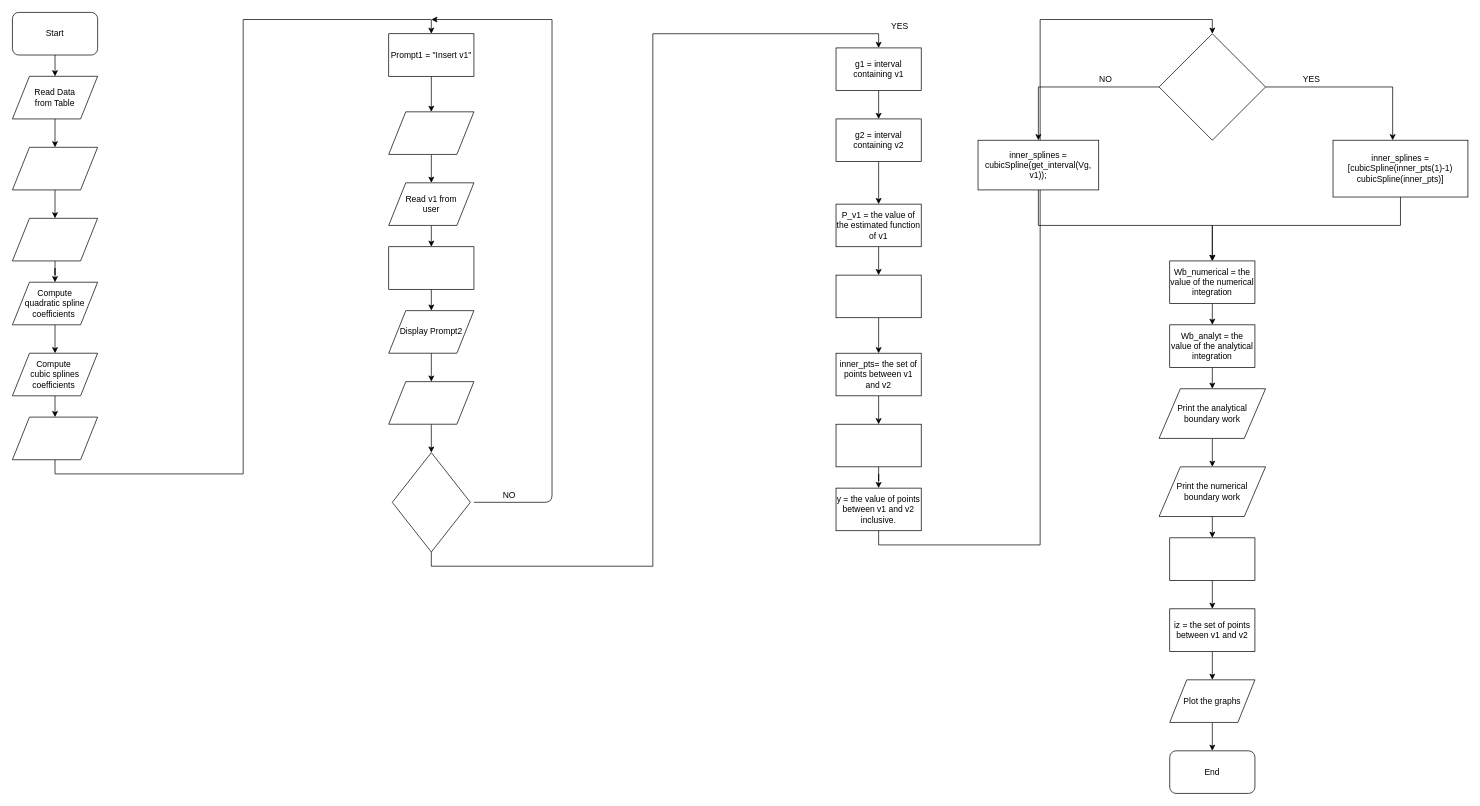
This 1480x806 diagram has some shape labels left out. The centre of each missing label's shape, as x and y in pixels:
B = the analytical differentiation: point (1212, 558)
Compute linear spline coefficients: point (55, 239)
Compute the second derivatives: point (55, 168)
Display Prompt1: point (431, 132)
Display Welcome: point (55, 438)
if length(inner_pts) > 0: point (1212, 86)
if v1&&v2 are in the dataset range: point (431, 502)
P_v2 = the value of the estimated function of v2: point (878, 296)
Prompt2 = "Insert v2": point (431, 267)
Read v2 from user: point (431, 402)
x = the points between v1 and v2 inclusive.: point (878, 445)
